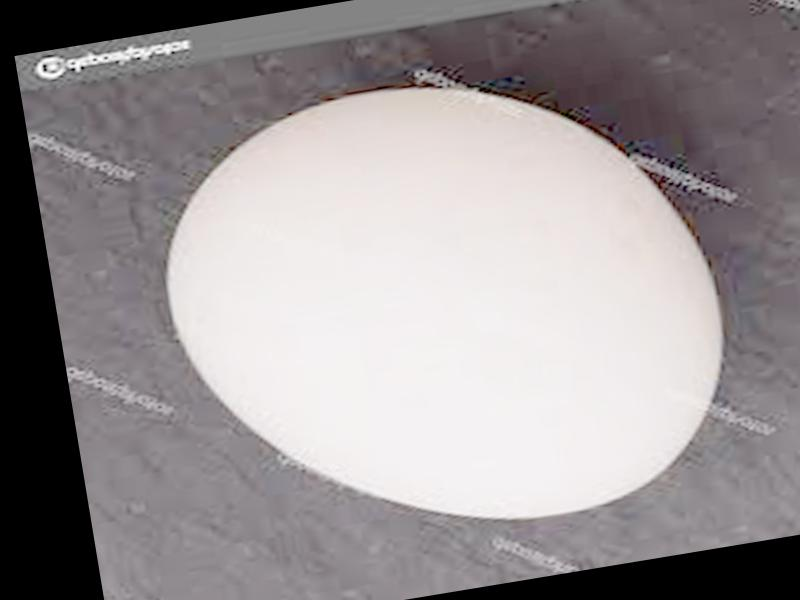Eggs: (142, 41, 746, 567)
